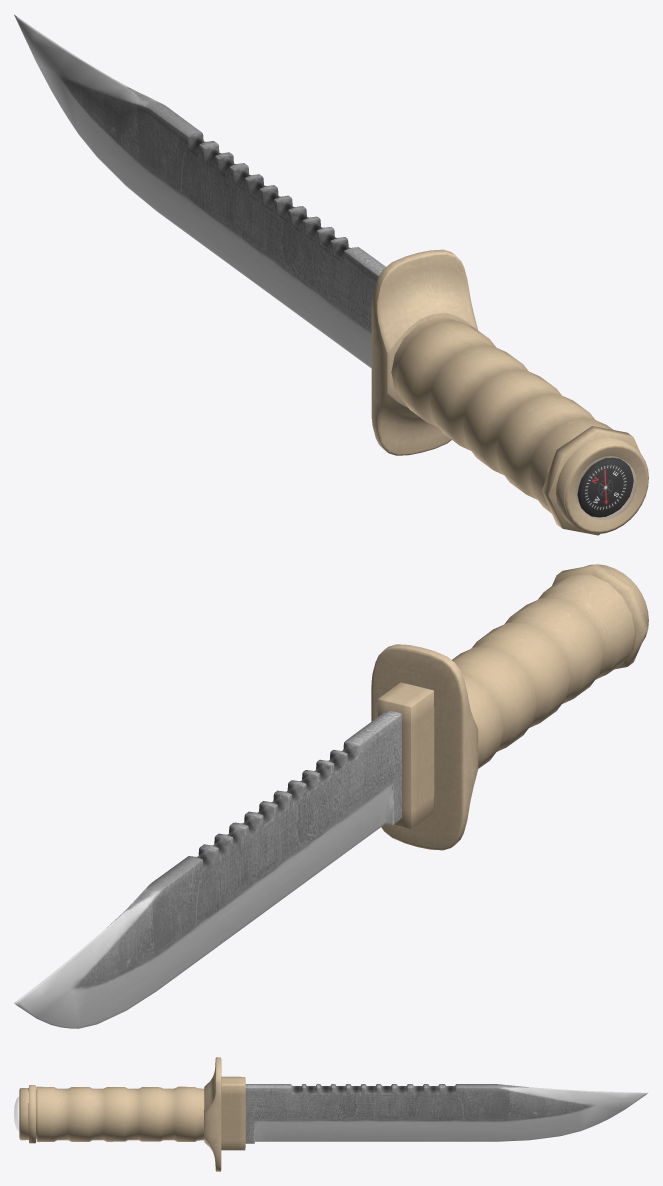
Rendered from Cuchillo.gltf.
3 renders of one model, top to bottom at view 1: azimuth 30°, elevation 25°; view 2: azimuth 150°, elevation 25°; view 3: azimuth 270°, elevation 25°, orthographic. The views are drawn at different scales.
Visible parts, largest first — view 1: Hoja, Mango, Guardamano, Tapa, T-Brujula, Brujula, Tuerca; view 2: Hoja, Mango, Guardamano, Defensa, Tuerca; view 3: Hoja, Mango, Defensa, Guardamano, Tapa, Tuerca.
Boxes of the visible parts, x1,y1,x2,y2 form: Hoja: (14,14,385,368); Mango: (391,318,613,513); Guardamano: (371,249,478,455); Tapa: (556,437,648,534); T-Brujula: (575,456,636,520); Brujula: (577,457,633,517); Tuerca: (542,426,640,535); Hoja: (14,710,401,1028); Mango: (452,574,636,768); Guardamano: (371,644,478,850); Defensa: (377,682,434,828); Tuerca: (552,564,648,669); Hoja: (245,1084,648,1143); Mango: (36,1086,204,1142); Defensa: (221,1076,245,1150); Guardamano: (204,1057,221,1171); Tapa: (19,1088,28,1140); Tuerca: (28,1085,36,1143).
Bounding box in the file's own units: 0.5256 × 0.9848 × 5.43.
4 materials, 3 textured.
